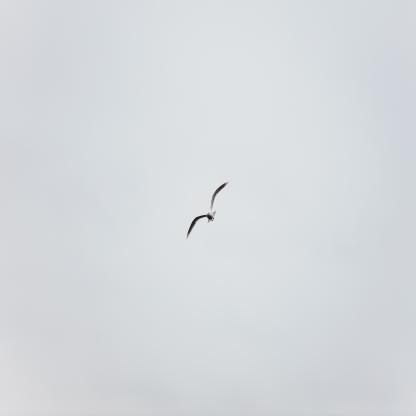bird: (186, 180, 230, 242)
